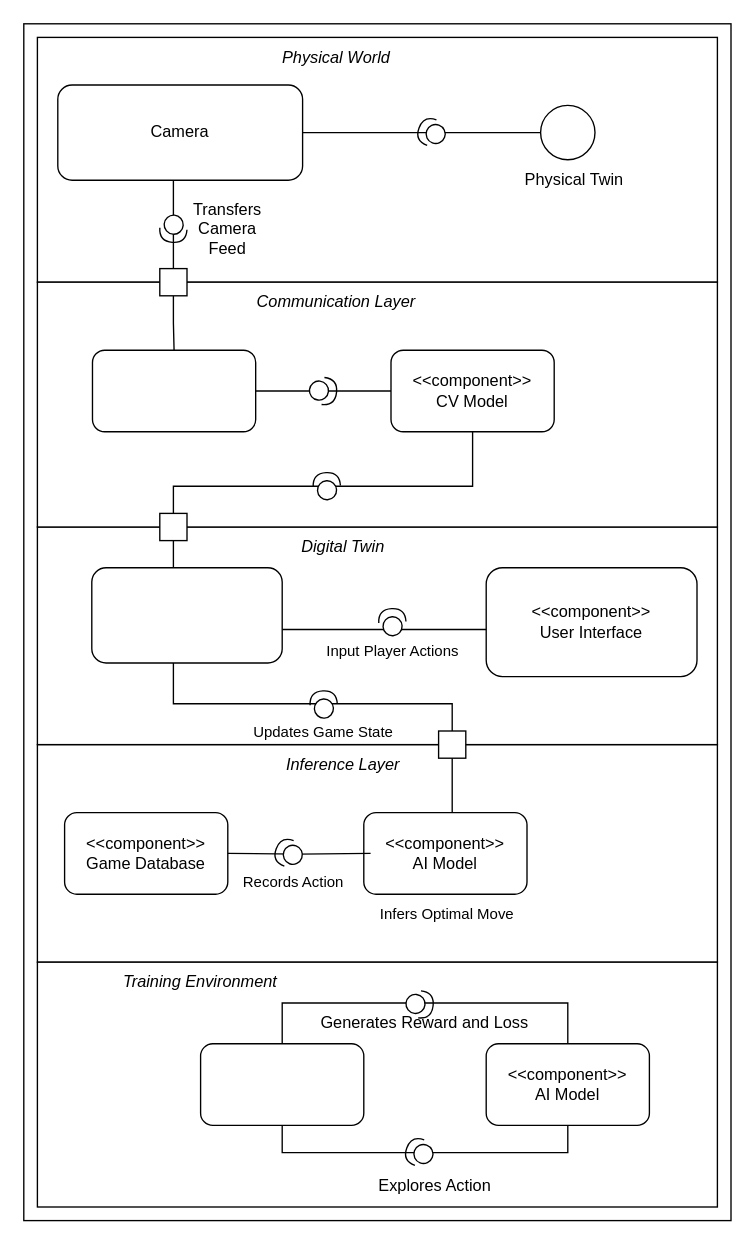
Some shapes in this 755 by 1244 pixel diagram are drawn without their labels. Here are the shapes that lost their labels. From the top down, the centre of each, then its label:
At point (173, 390): "<<component>> Image Queue".
At point (186, 614): "<<component>> Game-State Manager".
At point (281, 1083): "<<component>> Reinforcement Learning Environment".
